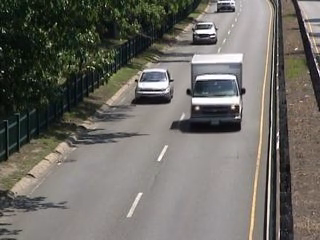car: (132, 68, 179, 111), (190, 19, 220, 46), (214, 1, 238, 16)
truck: (186, 53, 250, 133)
